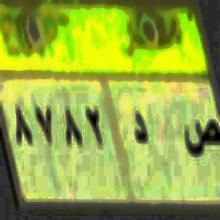2: (86, 96, 104, 157)
7: (36, 98, 54, 159)
8: (62, 102, 82, 163), (14, 101, 32, 162)
daal: (128, 101, 153, 163)
saad: (181, 104, 220, 166)
